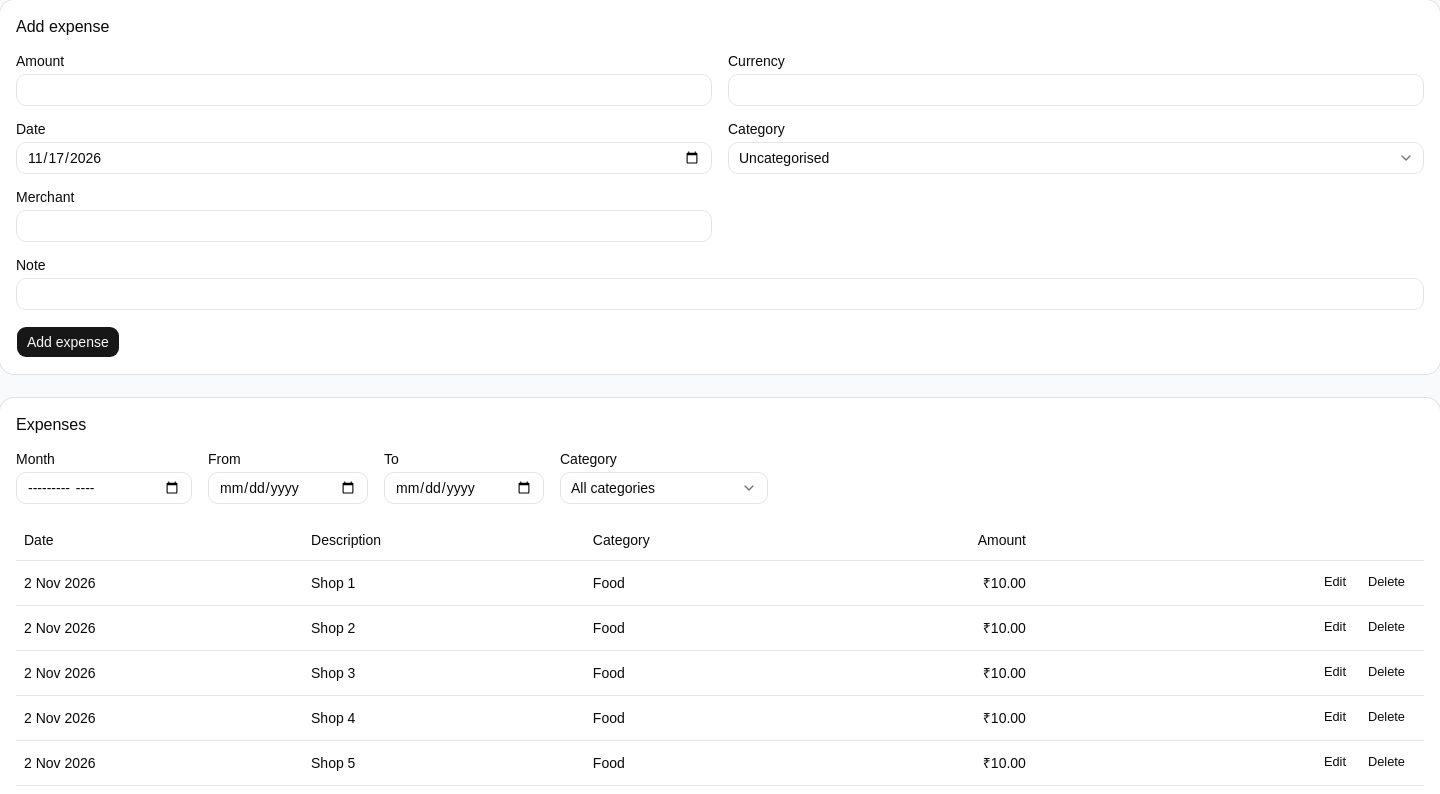
Test: choosing several categories sends one parameter per name
The width and height of the screenshot is (1440, 794).
Expected: the text "Shop 1" is shown, [303,560,585,605]
Click the button with id "filter-category": click(664, 488) [560,472,768,504]
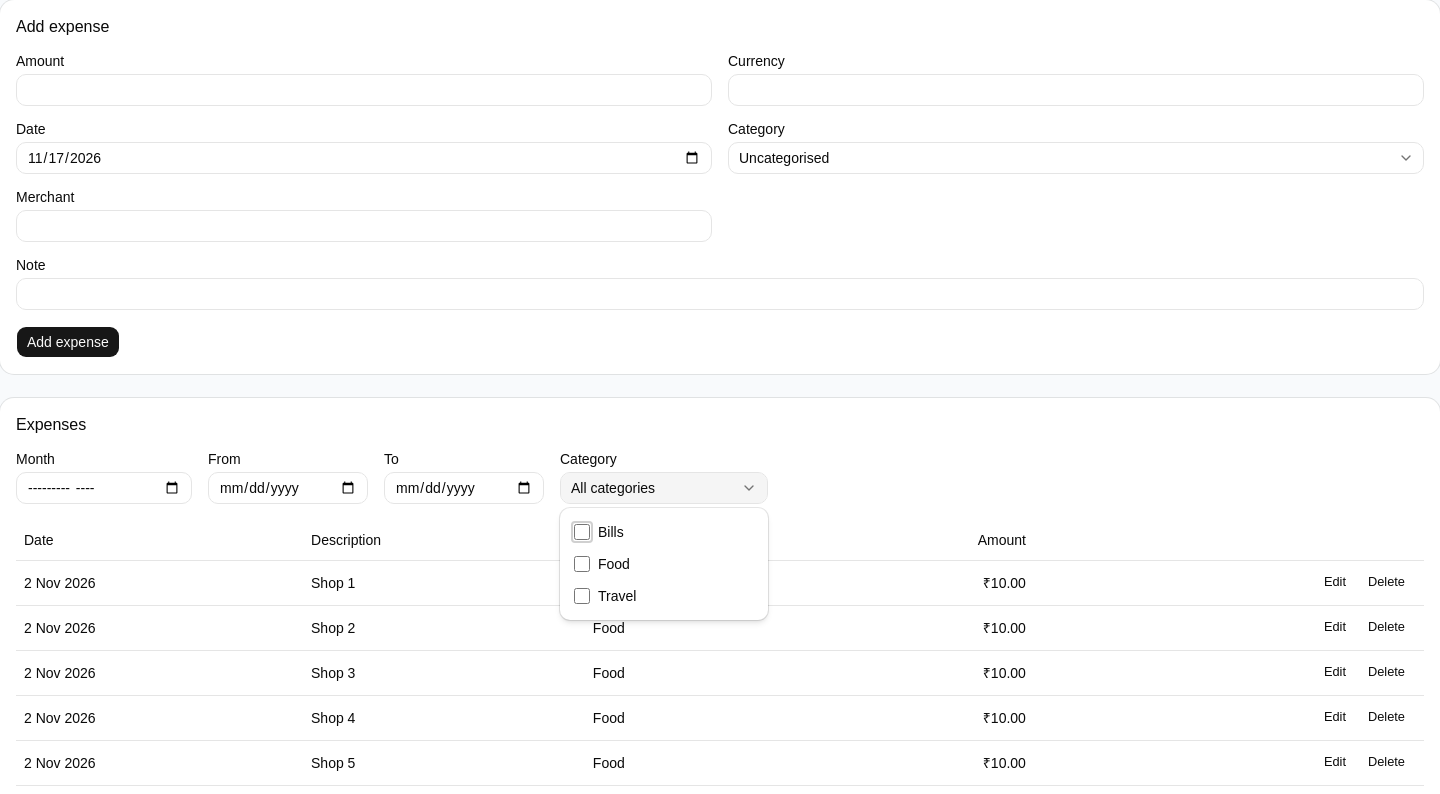
Click the checkbox labelled "Bills": click(582, 532) [574,524,590,540]
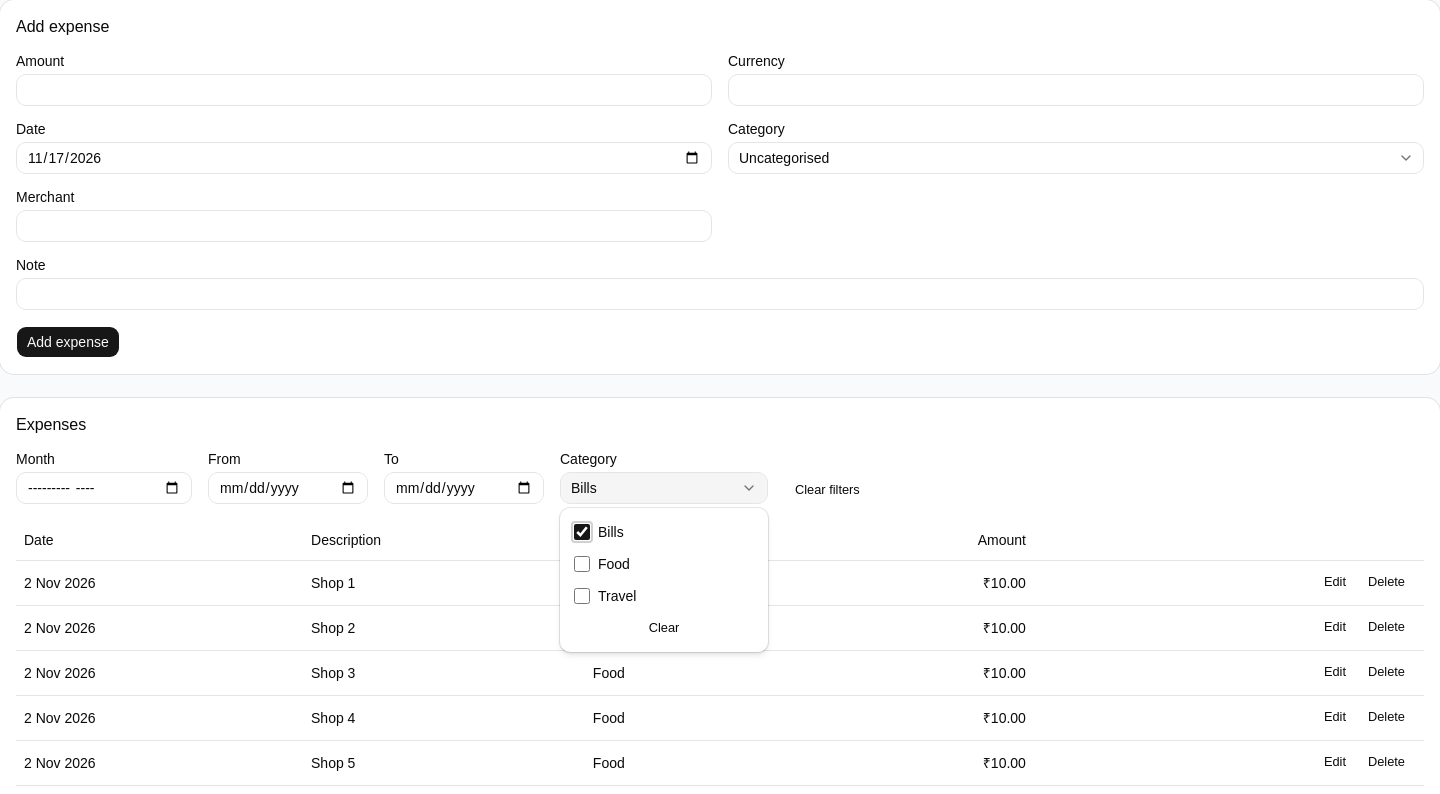
Click the checkbox labelled "Food": click(582, 564) [574,556,590,572]
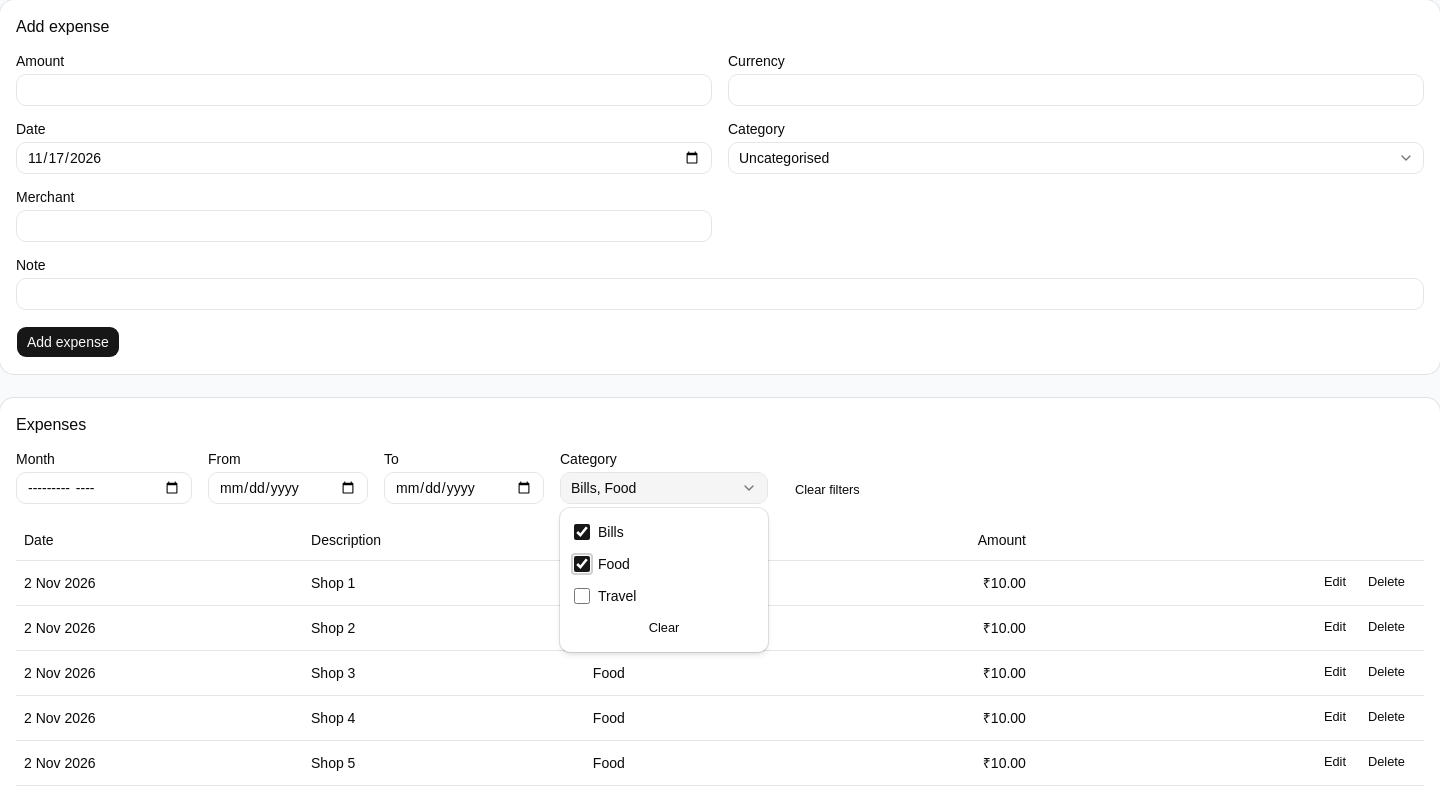
Expected: the button with id "filter-category" reads "Bills, Food", [560,472,768,504]
